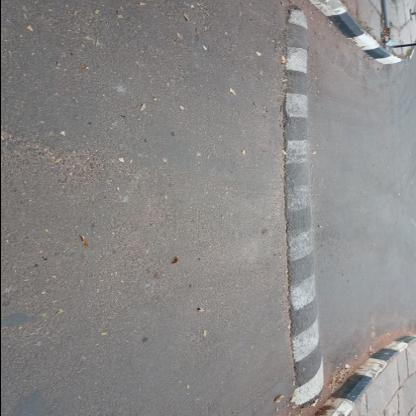speed-bumps: (276, 1, 334, 415)
